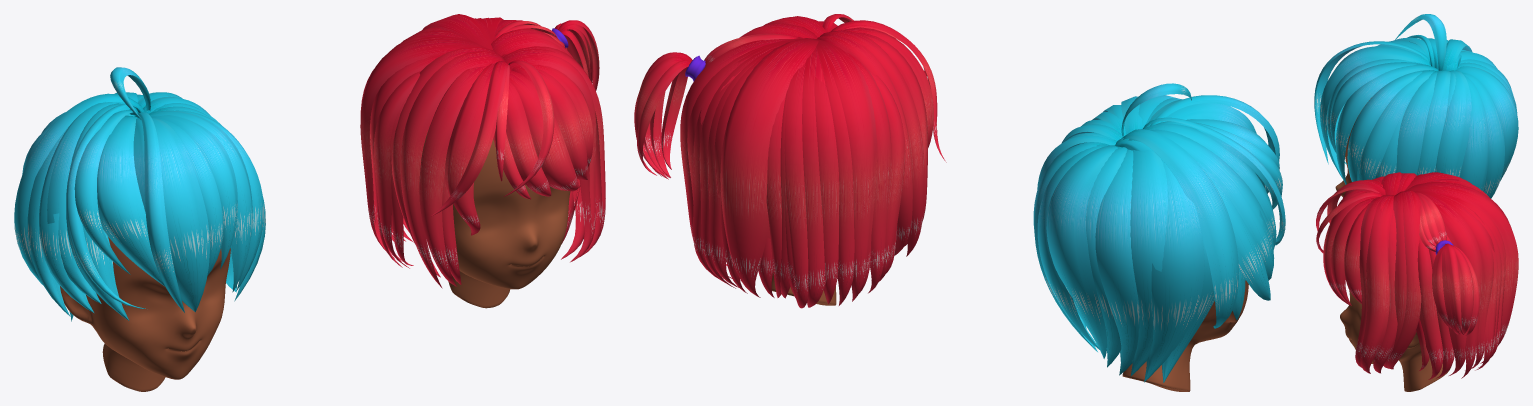
File: anime-hair.glb
The picture shows the model from 3 angles, left to right: view 1: azimuth 30°, elevation 25°; view 2: azimuth 150°, elevation 25°; view 3: azimuth 270°, elevation 25°; orthographic projection. The views are drawn at different scales.
Visible parts, largest first — view 1: Hair-female_2, haiir-male_4, head-male_5, Head-female_3; view 2: Hair-female_2, haiir-male_4, head-male_5; view 3: Hair-female_2, haiir-male_4, Head-female_3, head-male_5.
Boxes of the visible parts, x1,y1,x2,y2 form: Hair-female_2: (360,14,605,288); haiir-male_4: (14,67,265,321); head-male_5: (60,237,230,391); Head-female_3: (421,129,570,308); Hair-female_2: (634,14,946,308); haiir-male_4: (1033,83,1285,382); head-male_5: (1122,280,1248,391); Hair-female_2: (1316,172,1518,379); haiir-male_4: (1314,14,1518,198); Head-female_3: (1340,290,1450,391); head-male_5: (1335,97,1371,196).
Bounding box in the file's own units: 8.14 × 4.15 × 3.2.
4 materials, 2 textured.
